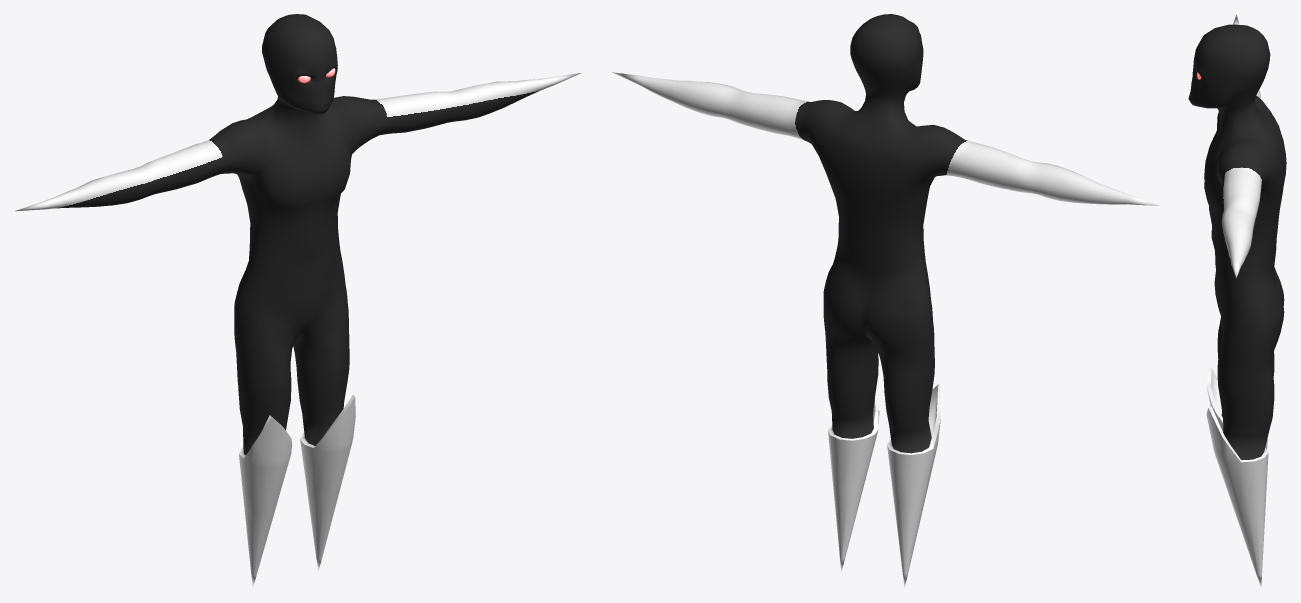
Rendered from Shadow 1.fbx.
3 renders of one model, left to right at view 1: azimuth 30°, elevation 25°; view 2: azimuth 150°, elevation 25°; view 3: azimuth 270°, elevation 25°, orthographic. The views are drawn at different scales.
Parts seen in each view (by area): view 1: Shadow; view 2: Shadow; view 3: Shadow.
Part boxes in pixels (x1,y1,x2,y2): Shadow: [15, 14, 581, 588]; Shadow: [612, 14, 1158, 587]; Shadow: [1188, 14, 1286, 588].
Size of the model in its own units: 1.89 by 1.82 by 0.2969.
1 material, 1 textured.
